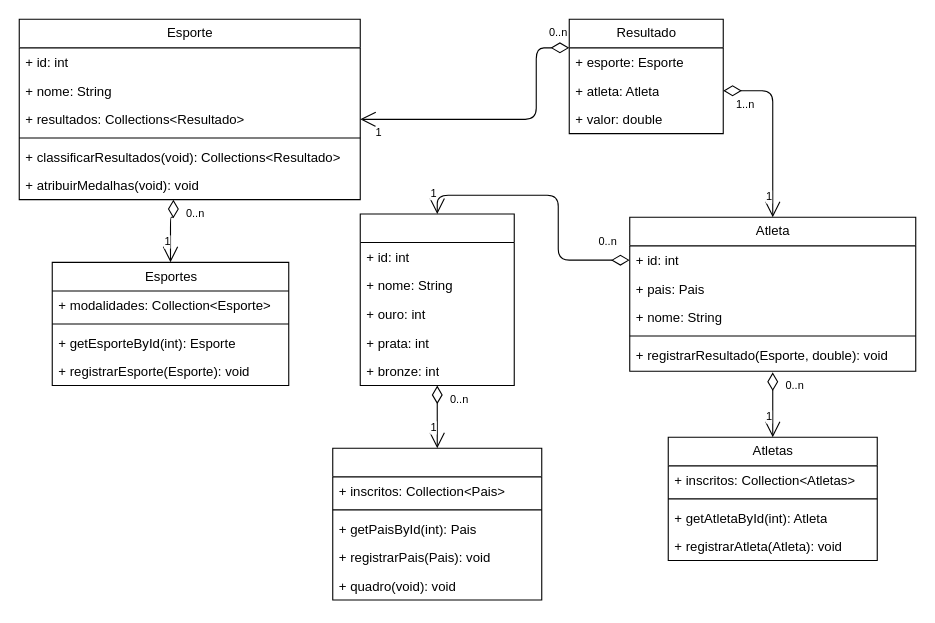
This 935x623 diagram has some shape labels left out. The shapes that lost their labels are listed below. From the top down, each one's box as (x1, y1, x2, y2) in pixels, then its label:
(359, 213, 514, 386): Pais
(332, 447, 542, 600): Paises
